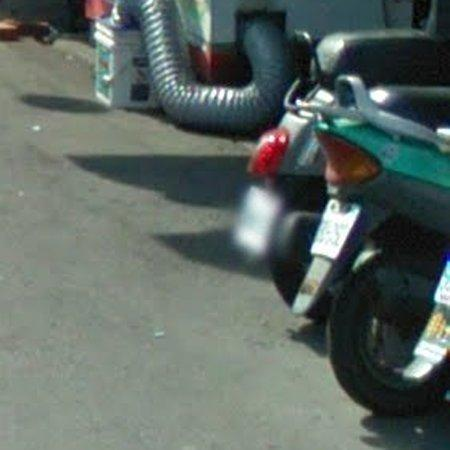motorcycles: (294, 75, 450, 415)
